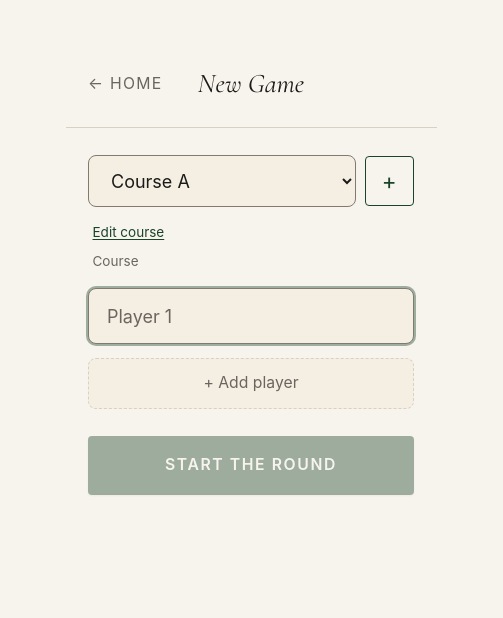
it: Setup — "+ New course" button (#35) › clicking "+ New course" enters creation mode and shows the radiogroup and par stepper
expect the dropdown showing "Course A" is shown: met, box [88,155,356,207]
Click the button named "new course" at x=389, y=181, box [364,156,414,206]
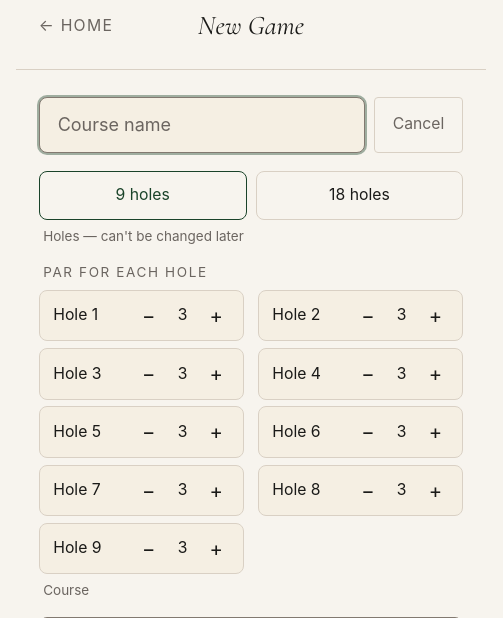
expect the field with placeholder "Course name" is shown: met, box [39,96,365,152]
expect the element named "Number of holes on this course" is shown: met, box [39,170,463,220]
expect the element named "Hole 1, par 3" is shown: met, box [39,290,244,341]
